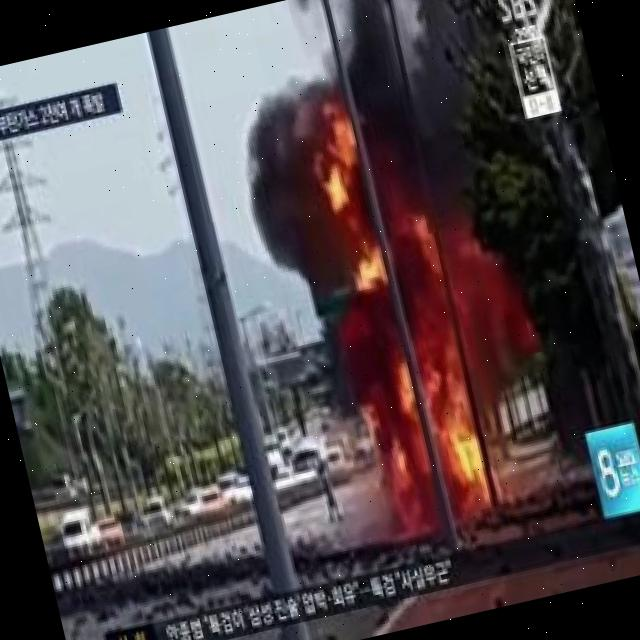fire: (326, 218, 548, 534), (310, 111, 380, 237)
